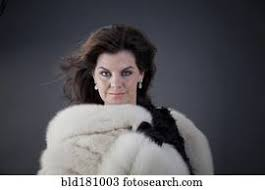white_female: (88, 24, 149, 117)
